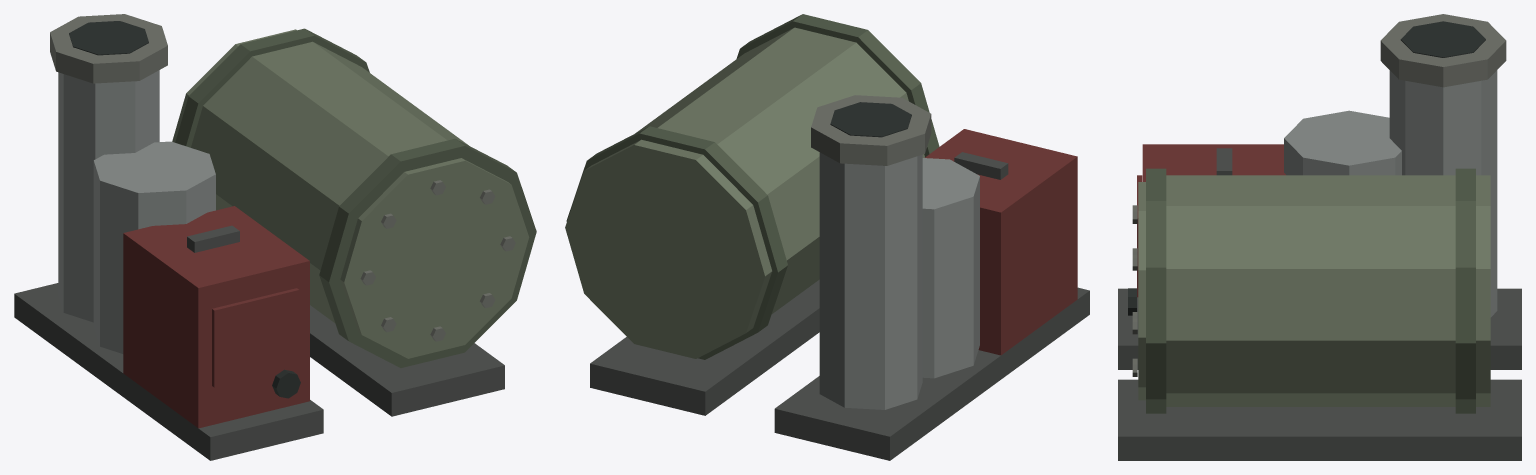
File: chemfuel_generator.obj
3 renders of one model, left to right at view 1: azimuth 30°, elevation 25°; view 2: azimuth 150°, elevation 25°; view 3: azimuth 270°, elevation 25°, orthographic. The views are drawn at different scales.
Visible parts, largest first — view 1: chemfuel_generator; view 2: chemfuel_generator; view 3: chemfuel_generator.
Boxes of the visible parts, x1,y1,x2,y2 form: chemfuel_generator: (14,14,536,460); chemfuel_generator: (565,14,1089,460); chemfuel_generator: (1118,14,1521,460).
Bounding box in the file's own units: 1.8 × 1.49 × 1.8.
